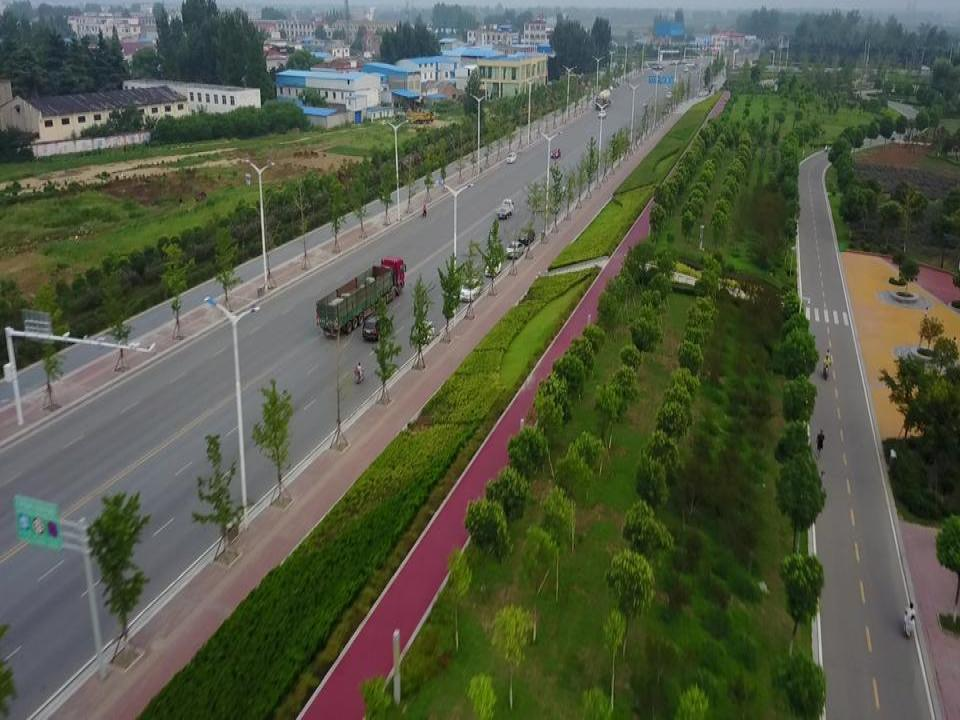car: (361, 314, 393, 342), (458, 274, 481, 302), (504, 238, 525, 258), (485, 255, 502, 276), (419, 319, 435, 341), (518, 227, 535, 245), (505, 150, 519, 162), (549, 146, 560, 158)
truck: (314, 256, 406, 335), (495, 196, 514, 221), (594, 86, 611, 109)
